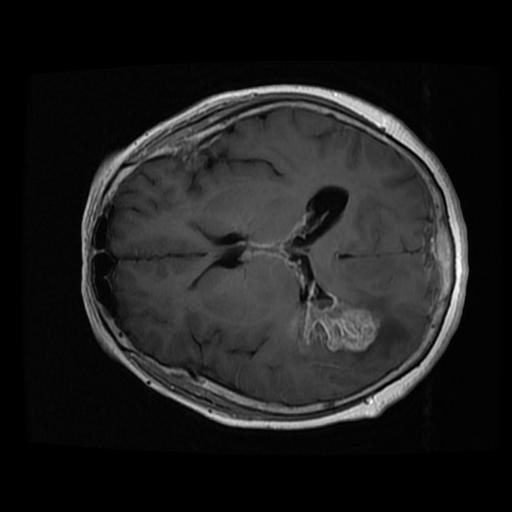glioma: (236, 211, 412, 385)
